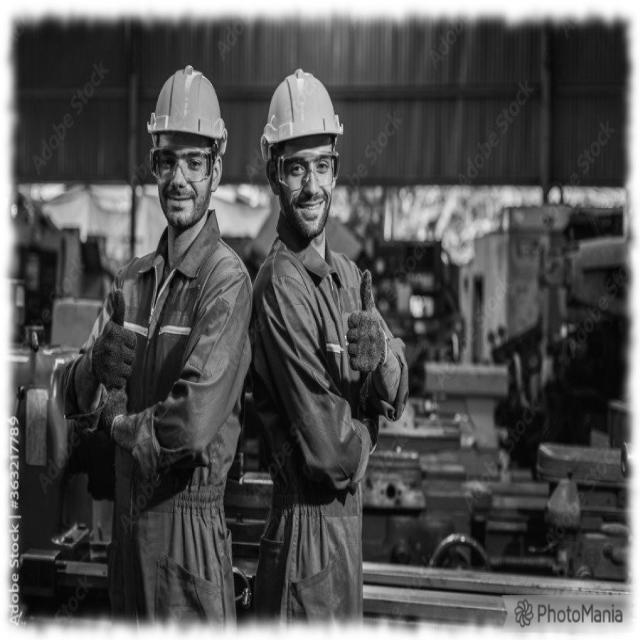Goggles: (272, 150, 340, 192), (148, 145, 213, 187)
